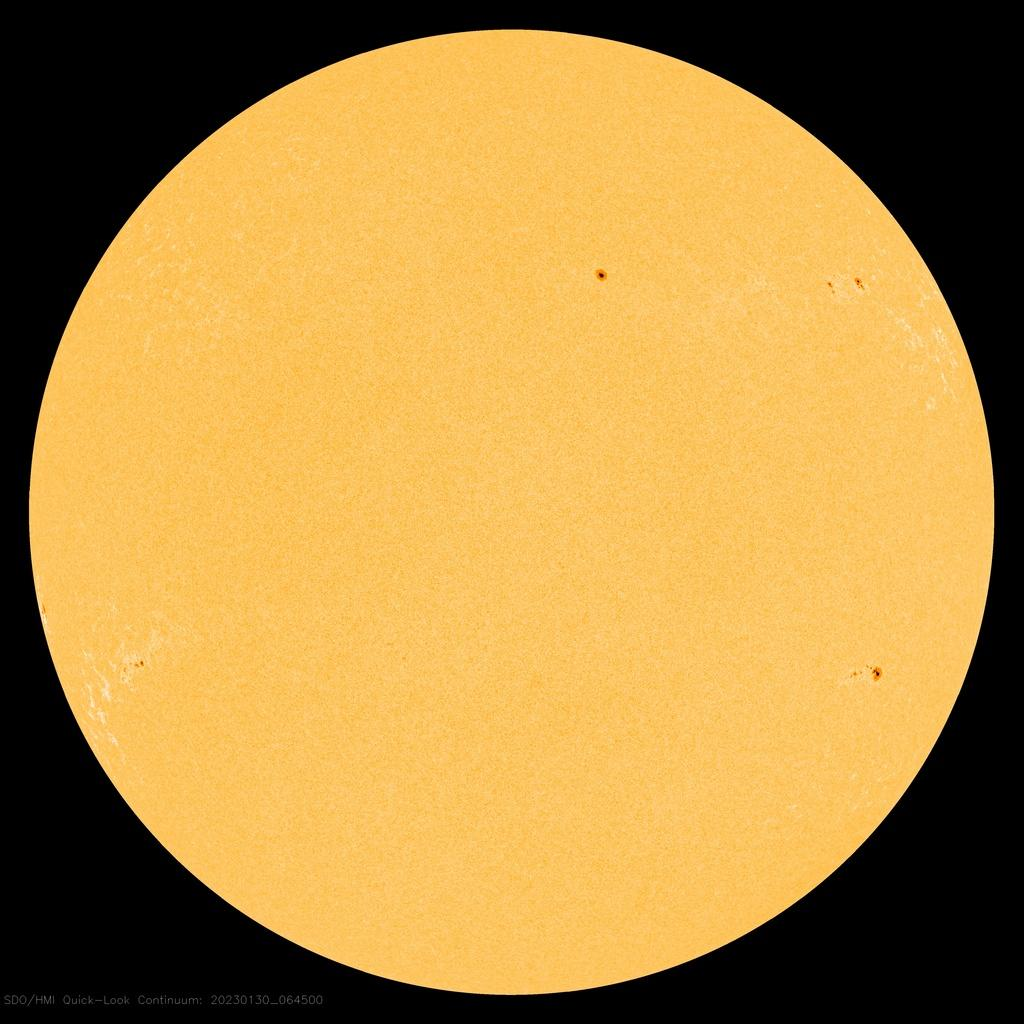flare: (831, 658, 893, 696), (817, 264, 872, 303), (115, 644, 155, 683), (587, 255, 619, 291)
